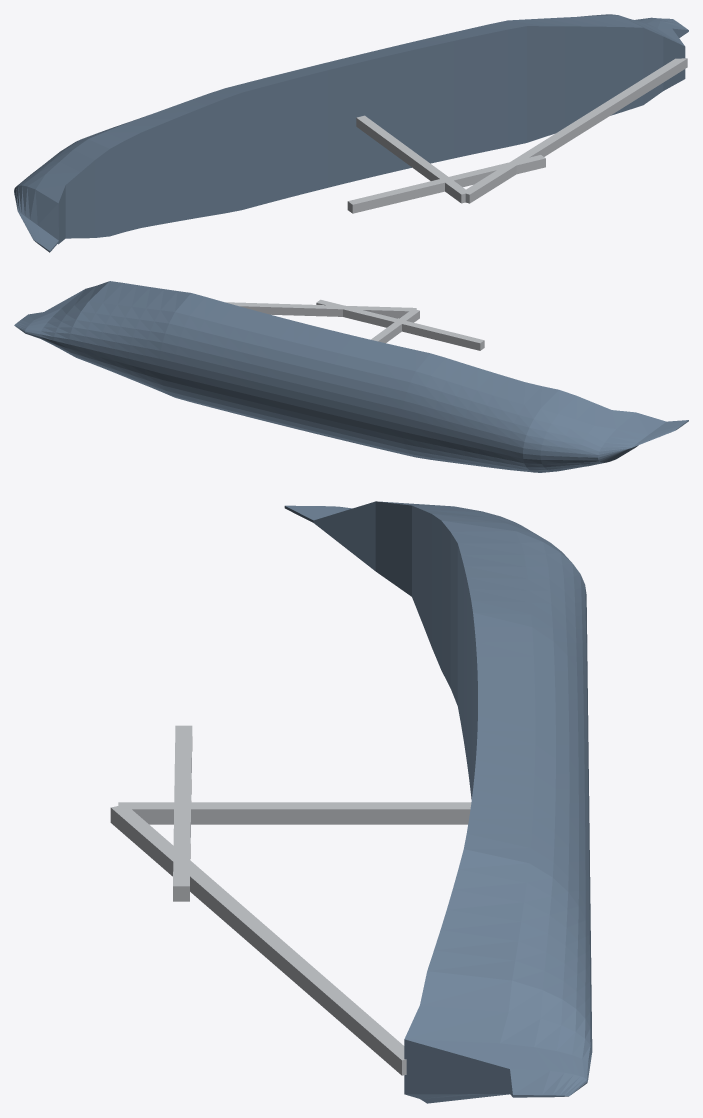
Rendered from loft-trireme-sheered.glb.
The picture shows the model from 3 angles, top to bottom: view 1: azimuth 30°, elevation 25°; view 2: azimuth 150°, elevation 25°; view 3: azimuth 270°, elevation 25°; orthographic projection. The views are drawn at different scales.
Visible parts, largest first — view 1: loft-trireme-sheered; view 2: loft-trireme-sheered; view 3: loft-trireme-sheered.
Boxes of the visible parts, left/top/right/bottom form: loft-trireme-sheered: left=14, top=14, right=688, bottom=252; loft-trireme-sheered: left=14, top=281, right=688, bottom=472; loft-trireme-sheered: left=110, top=501, right=592, bottom=1103.
Size of the model in its own units: 1.98 by 0.315 by 0.6838.
